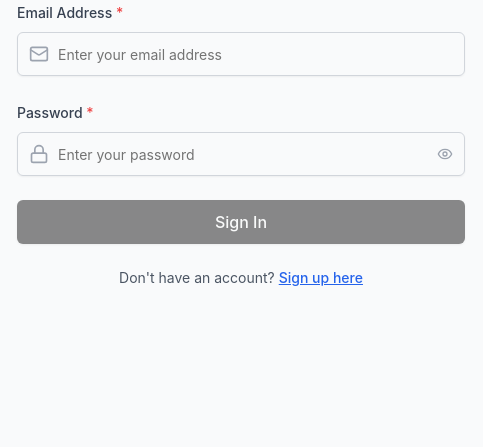
LoginForm - Authentication Flow (Req 1) › should show error message for invalid credentials
This screenshot has width=483, height=447.
Type "test@example.com" into the field labelled "Email Address *". click: {"x": 241, "y": 54}
box: [17, 32, 465, 76]
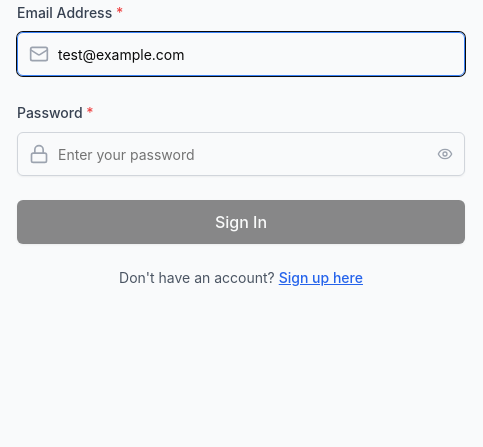
Type "wrongpassword" into the password field labelled "Password *". click: {"x": 241, "y": 154}
box: [17, 132, 465, 176]
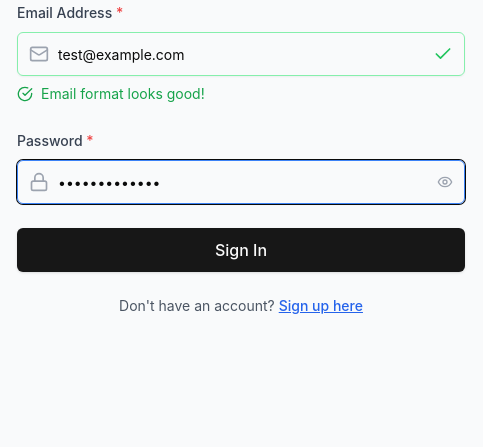
Click the button "Sign In". click: {"x": 241, "y": 250}
box: [17, 228, 465, 272]
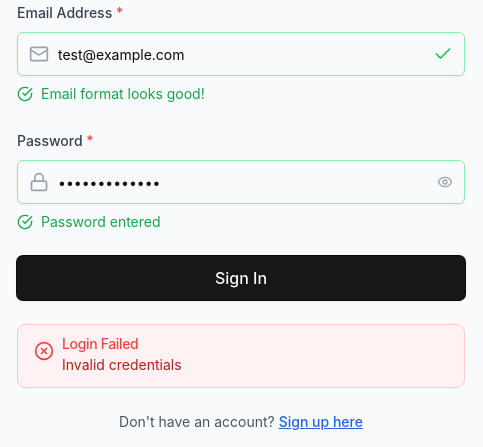
Now the heading "Login Failed" is shown, box [62, 335, 138, 352]
Now the text "Invalid credentials" is shown, box [62, 356, 182, 373]
